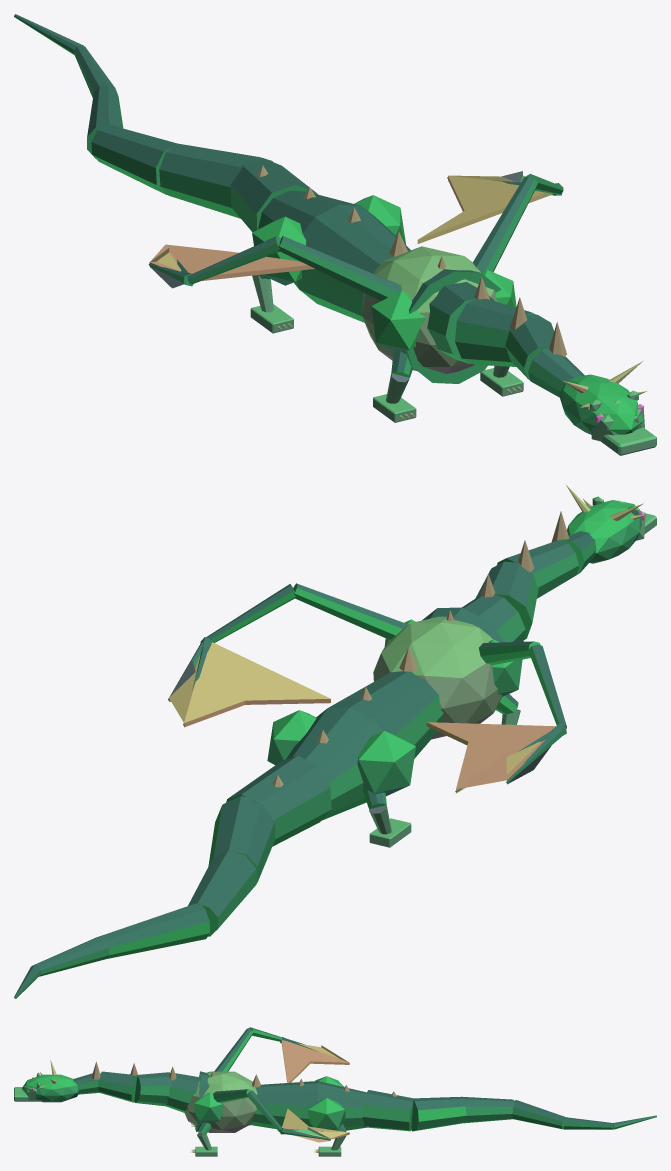
File: creature_dragon_v01.glb
The picture shows the model from 3 angles, top to bottom: view 1: azimuth 30°, elevation 25°; view 2: azimuth 150°, elevation 25°; view 3: azimuth 270°, elevation 25°; orthographic projection. The views are drawn at different scales.
Parts seen in each view (by area): view 1: GEO_creature_dragon_v01; view 2: GEO_creature_dragon_v01; view 3: GEO_creature_dragon_v01.
Boxes of the visible parts, x1=… form: GEO_creature_dragon_v01: x1=14, y1=14, x2=656, y2=455; GEO_creature_dragon_v01: x1=14, y1=485, x2=656, y2=998; GEO_creature_dragon_v01: x1=14, y1=1027, x2=656, y2=1156.
Bounding box in the file's own units: 13.79 × 5.63 × 39.99.
